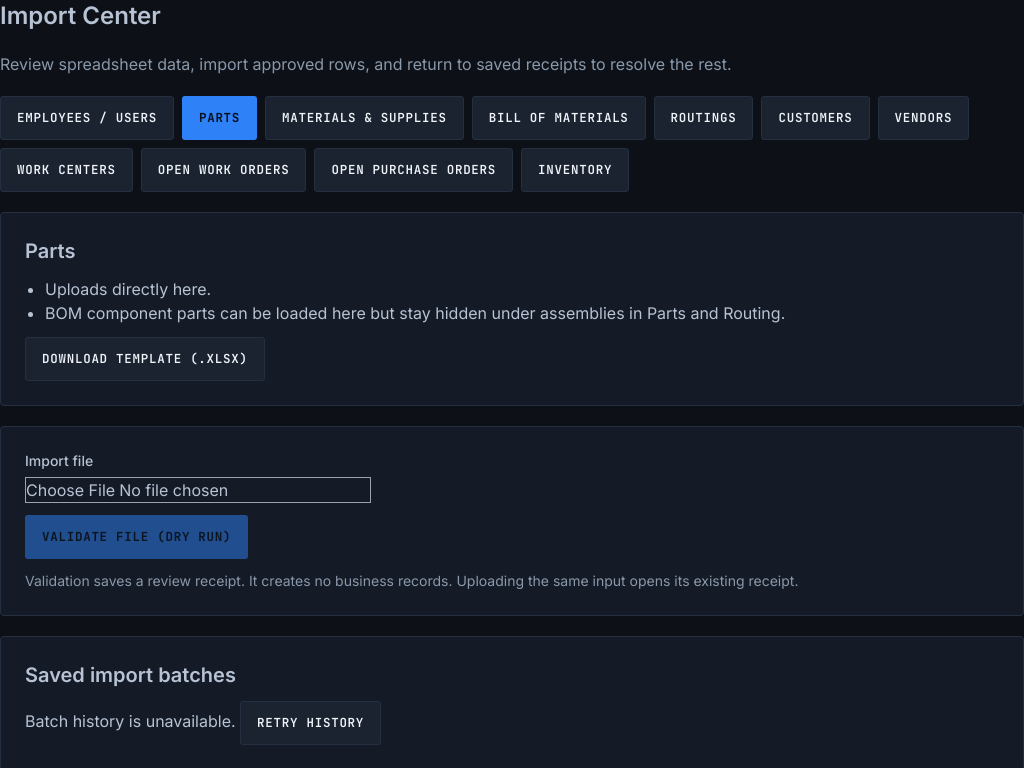
Test case: keeps failed history loading distinct from an empty history
This screenshot has width=1024, height=768.
Expected: the text "Batch history is unavailable. Retry history" is shown, [25,701,381,745]
Expected: the text "No saved batches" is not shown
What coordinates should you click on to do the following:
click the button "Retry history"
I would click on:
 (311, 723)
Its box is [240,701,381,745].
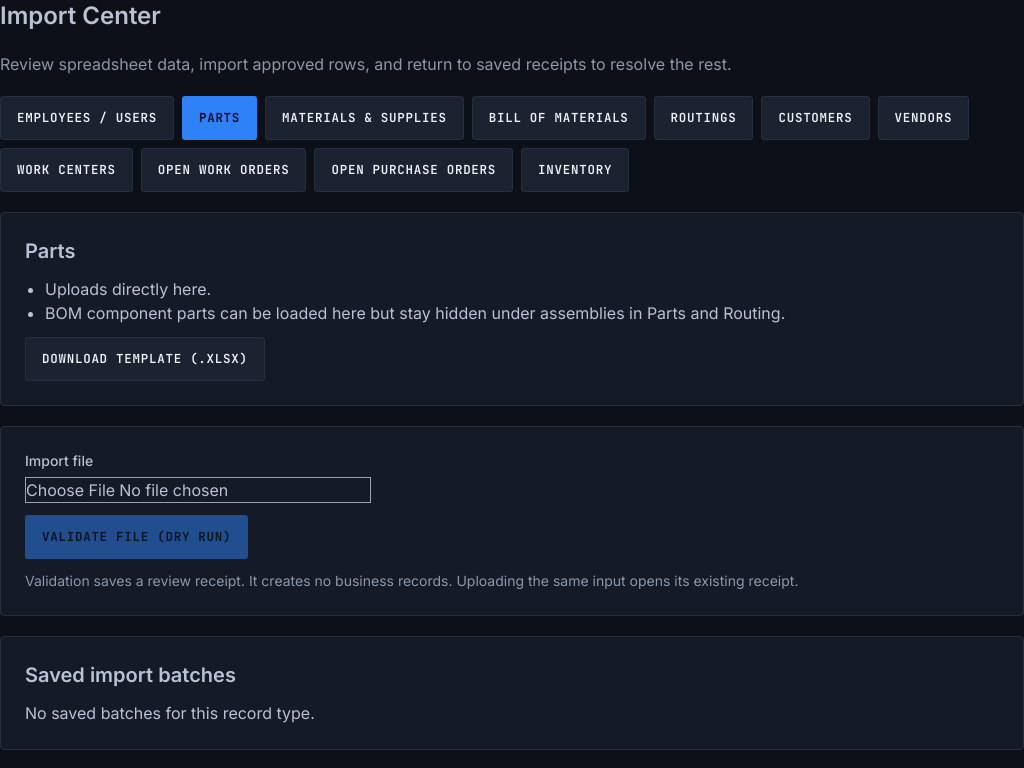
Expected: the text "No saved batches for this record type." is shown, [25,703,315,723]
